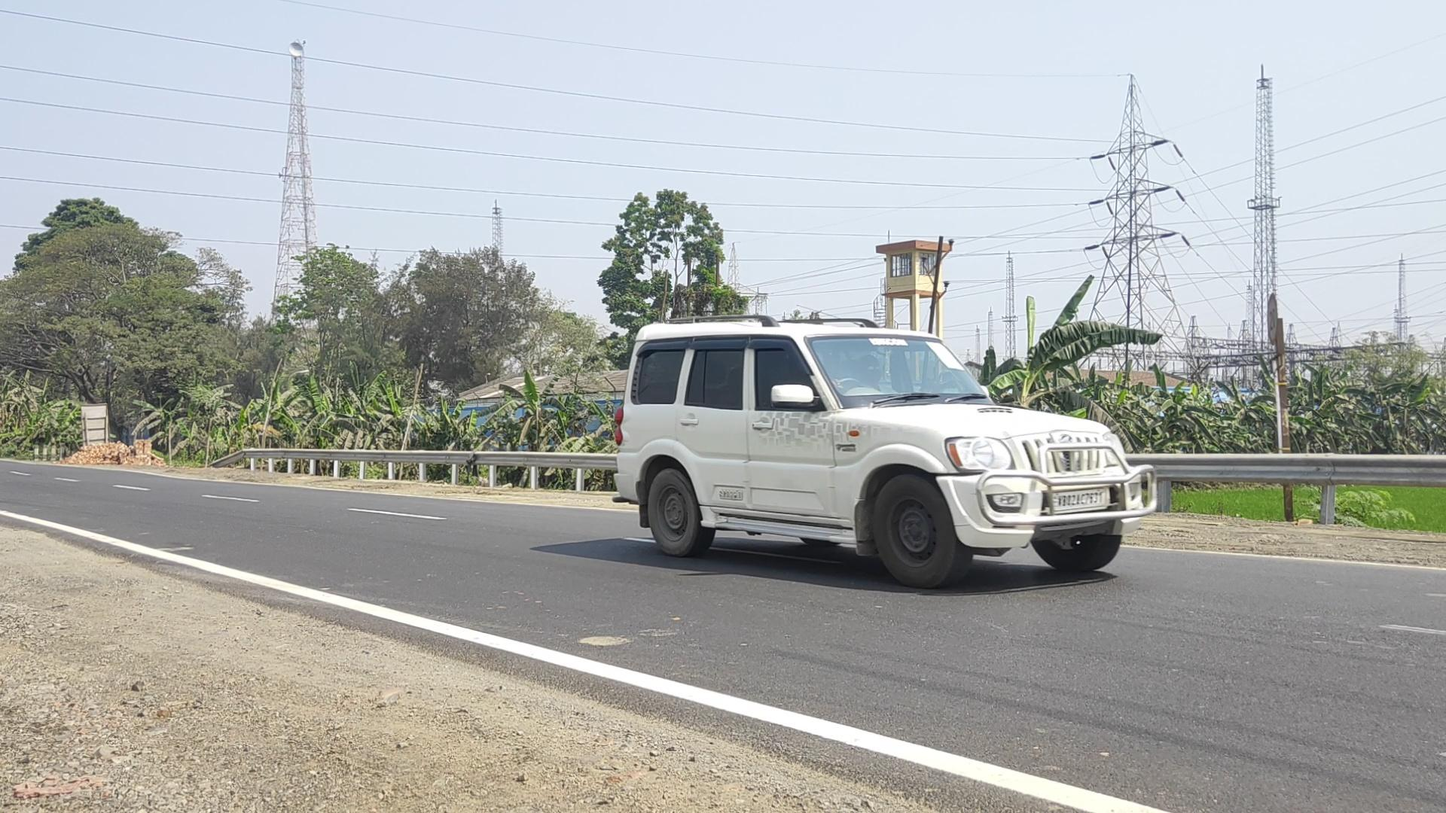car: (613, 314, 1158, 592)
